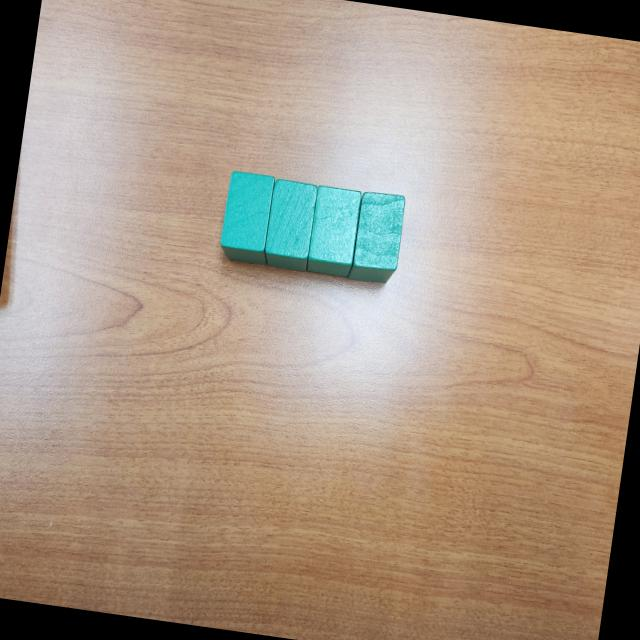green: (346, 188, 408, 288), (217, 170, 280, 268), (305, 184, 364, 281), (261, 177, 320, 273)
